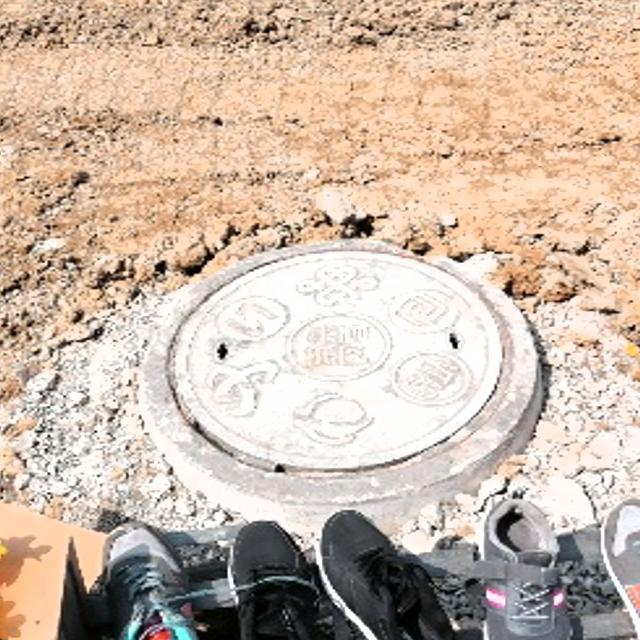good: (142, 236, 544, 498)
